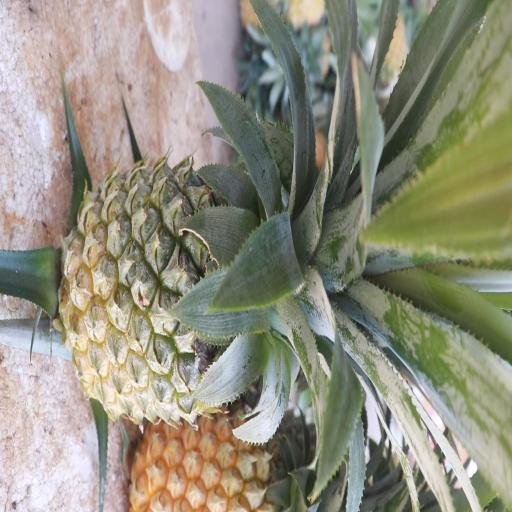------------------------------: (68, 164, 351, 421)
Pineapple - v8 v1: (136, 403, 334, 512)
